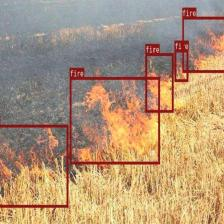fire: (69, 76, 160, 164), (0, 124, 68, 207), (181, 16, 224, 71), (145, 52, 173, 111), (174, 49, 188, 81)
